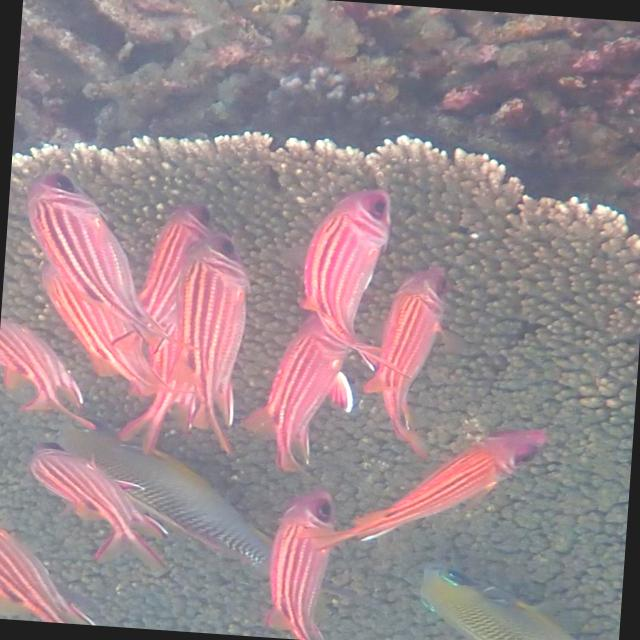Asker Baligi: (282, 402, 562, 578), (1, 157, 172, 336), (6, 430, 202, 579), (282, 164, 396, 380), (235, 475, 348, 640)
